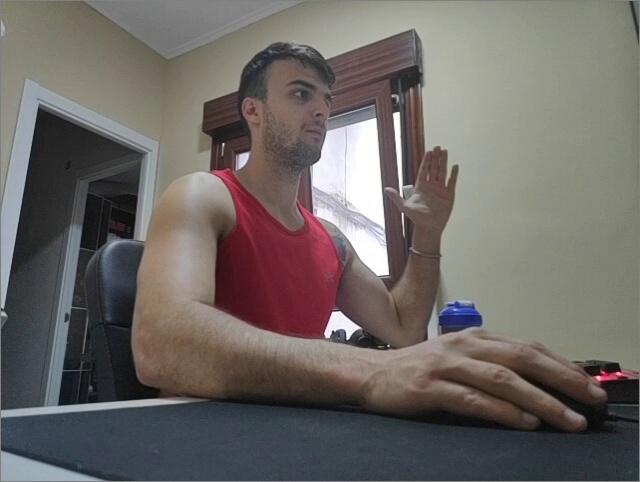Palm: (383, 145, 461, 233)
